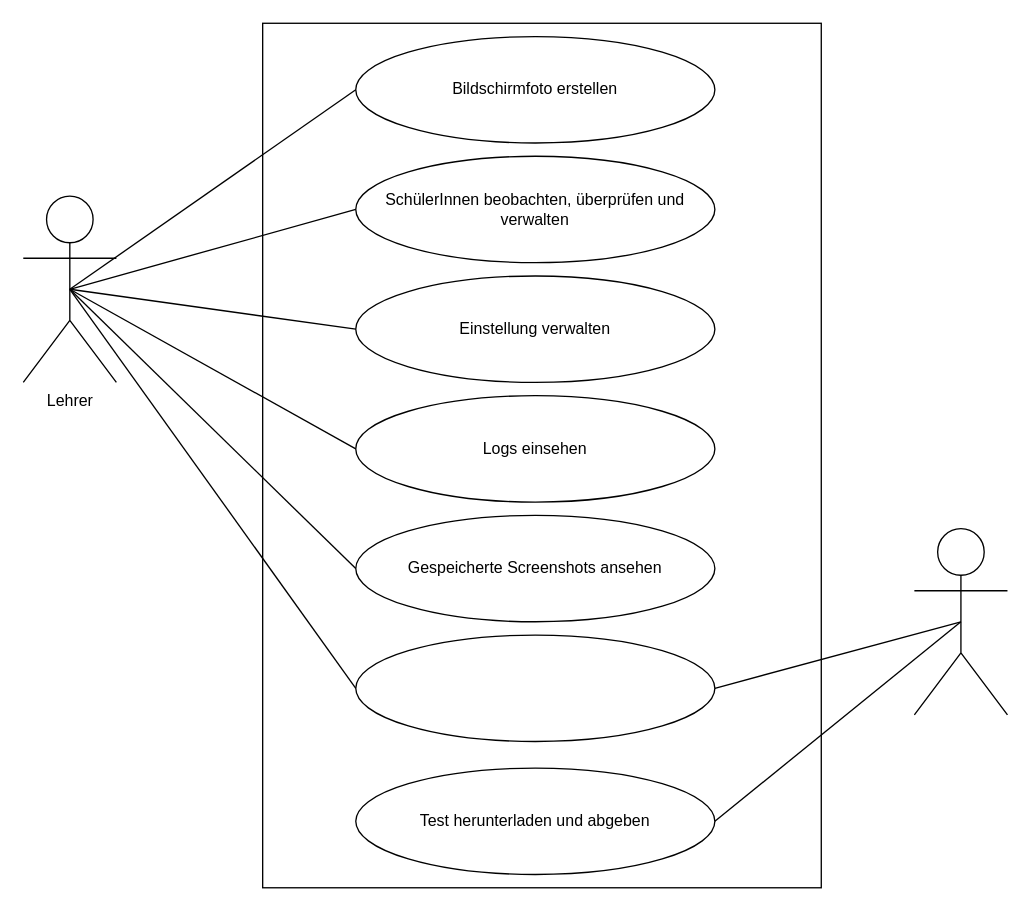
Some shapes in this 1031 by 911 pixel diagram are drawn without their labels. Here are the shapes that lost their labels. From the top down, the centre of each, then its label:
the point at 960,621: Schüler
the point at 534,687: Status überprüfen
